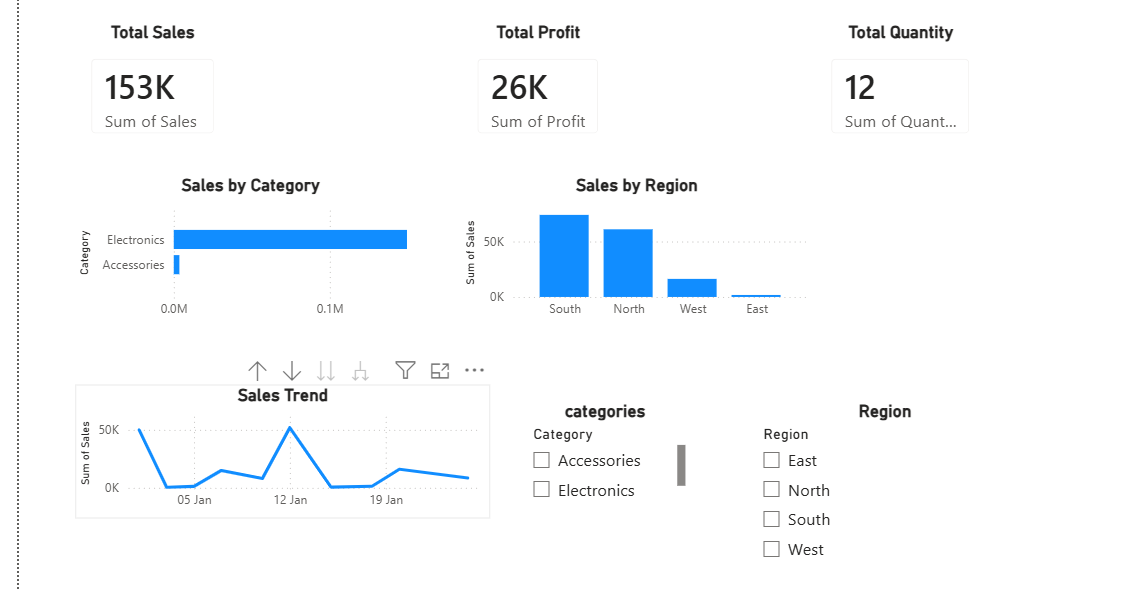

The page's visual inventory and layout, read from the dashboard file:
{"tool":"powerbi","page":{"name":"Page 1","canvas":[1280,720],"ordinal":0},"visuals":[{"type":"cardVisual","title":"Total Sales","fields":{"Data":["Sum(sales_data.Sales)"]},"box":[54.3,38.6,154.3,127.1],"z":0},{"type":"cardVisual","title":"Total Profit","fields":{"Data":["Sum(sales_data.Profit)"]},"box":[307.9,38.6,153.6,127.1],"z":1000},{"type":"cardVisual","title":"Total Quantity","fields":{"Data":["Sum(sales_data.Quantity)"]},"box":[509.3,38.6,169.3,127.1],"z":2000},{"type":"clusteredBarChart","title":"Sales by Category","fields":{"Y":["Sum(sales_data.Sales)"],"Category":["sales_data.Category"]},"box":[54.3,187.9,345.7,150],"z":3000},{"type":"clusteredColumnChart","title":"Sales by Region","fields":{"Category":["sales_data.Region"],"Y":["Sum(sales_data.Sales)"]},"box":[432.1,187.9,345.7,150],"z":4000},{"type":"lineChart","title":"Sales Trend","fields":{"Y":["Sum(sales_data.Sales)"],"Category":["sales_data.Date.Variation.Date Hierarchy.Year","sales_data.Date.Variation.Date Hierarchy.Quarter","sales_data.Date.Variation.Date Hierarchy.Month","sales_data.Date.Variation.Date Hierarchy.Day"]},"box":[55,393.8,406.2,131.2],"z":5000},{"type":"slicer","title":"categories","fields":{"Values":["sales_data.Category"]},"box":[490,410,166.2,100],"z":5001},{"type":"slicer","title":"Region","fields":{"Values":["sales_data.Region"]},"box":[715,410,263.8,192.5],"z":5002}]}

Visuals, with their boxes on the page's 1280x720 design canvas (x1, y1, x2, y2). These are canvas units, not pixel positions in the 1145x590 screenshot, which may show the page scaled, cropped or inside an application window:
"Total Sales" cardVisual: bbox=[54, 39, 209, 166]
"Total Profit" cardVisual: bbox=[308, 39, 462, 166]
"Total Quantity" cardVisual: bbox=[509, 39, 679, 166]
"Sales by Category" clusteredBarChart: bbox=[54, 188, 400, 338]
"Sales by Region" clusteredColumnChart: bbox=[432, 188, 778, 338]
"Sales Trend" lineChart: bbox=[55, 394, 461, 525]
"categories" slicer: bbox=[490, 410, 656, 510]
"Region" slicer: bbox=[715, 410, 979, 602]
